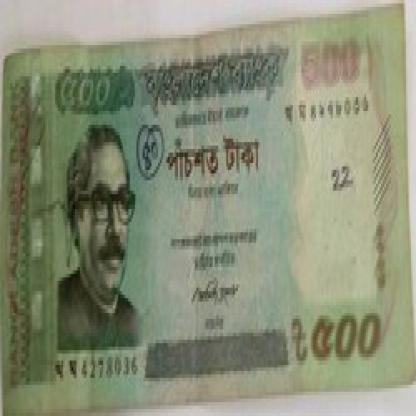500 taka: (155, 121, 273, 208), (50, 48, 130, 122)
currency: (9, 20, 414, 406)
